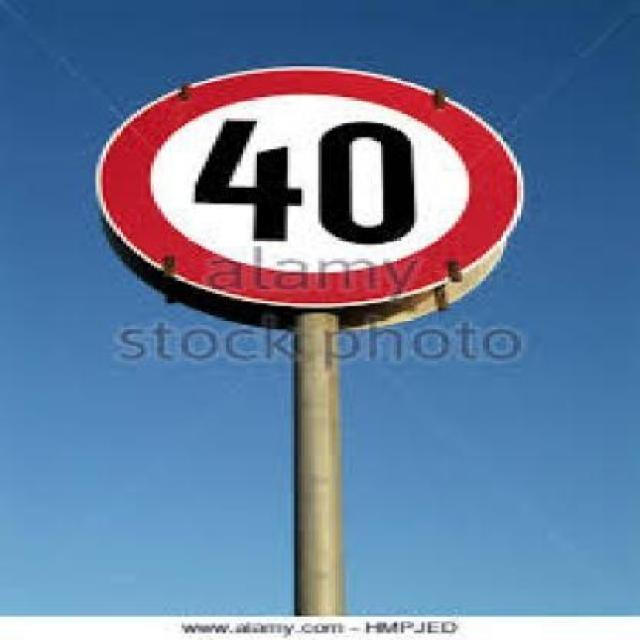forb_speed_over_40: (109, 73, 523, 302)
